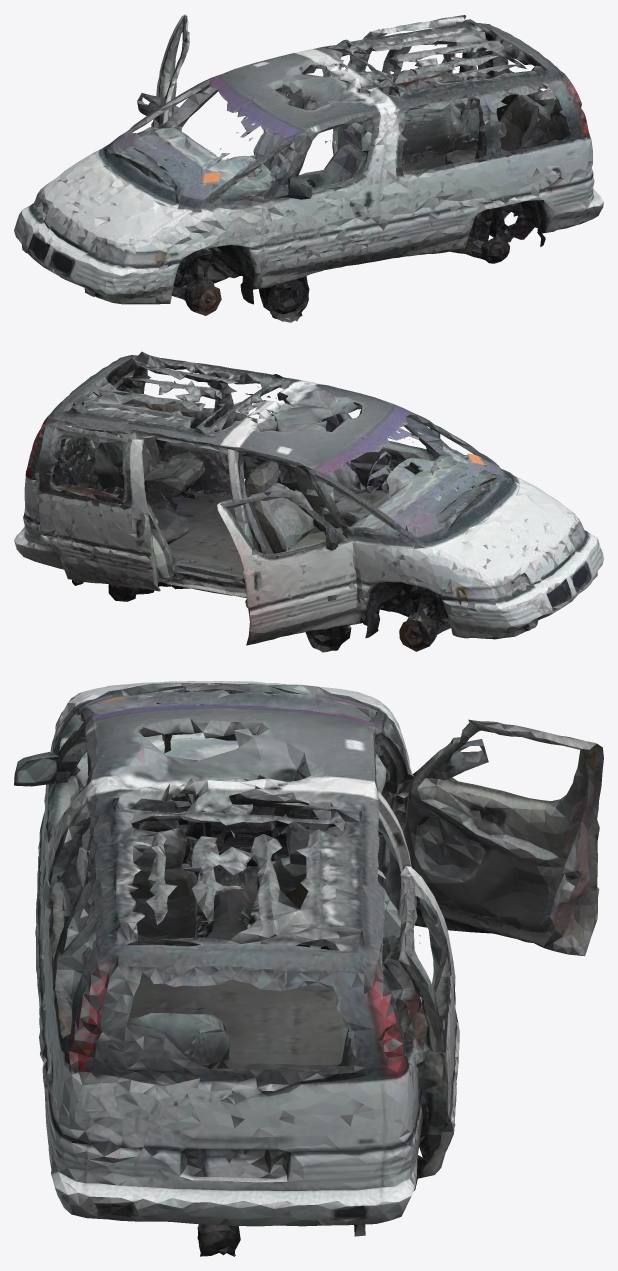
The model's file is SM_AbandonedVan.glb.
The picture shows the model from 3 angles, top to bottom: view 1: azimuth 30°, elevation 25°; view 2: azimuth 150°, elevation 25°; view 3: azimuth 270°, elevation 25°; orthographic projection. The views are drawn at different scales.
Visible parts, largest first — view 1: SM_AbandonedVan; view 2: SM_AbandonedVan; view 3: SM_AbandonedVan.
Part boxes in pixels (bbox=[...]): SM_AbandonedVan: bbox=[14, 14, 603, 322]; SM_AbandonedVan: bbox=[14, 351, 603, 652]; SM_AbandonedVan: bbox=[14, 681, 603, 1256].
Size of the model in its own units: 20.64 by 7.67 by 11.96.
Materials: 1 (1 with a texture image).
